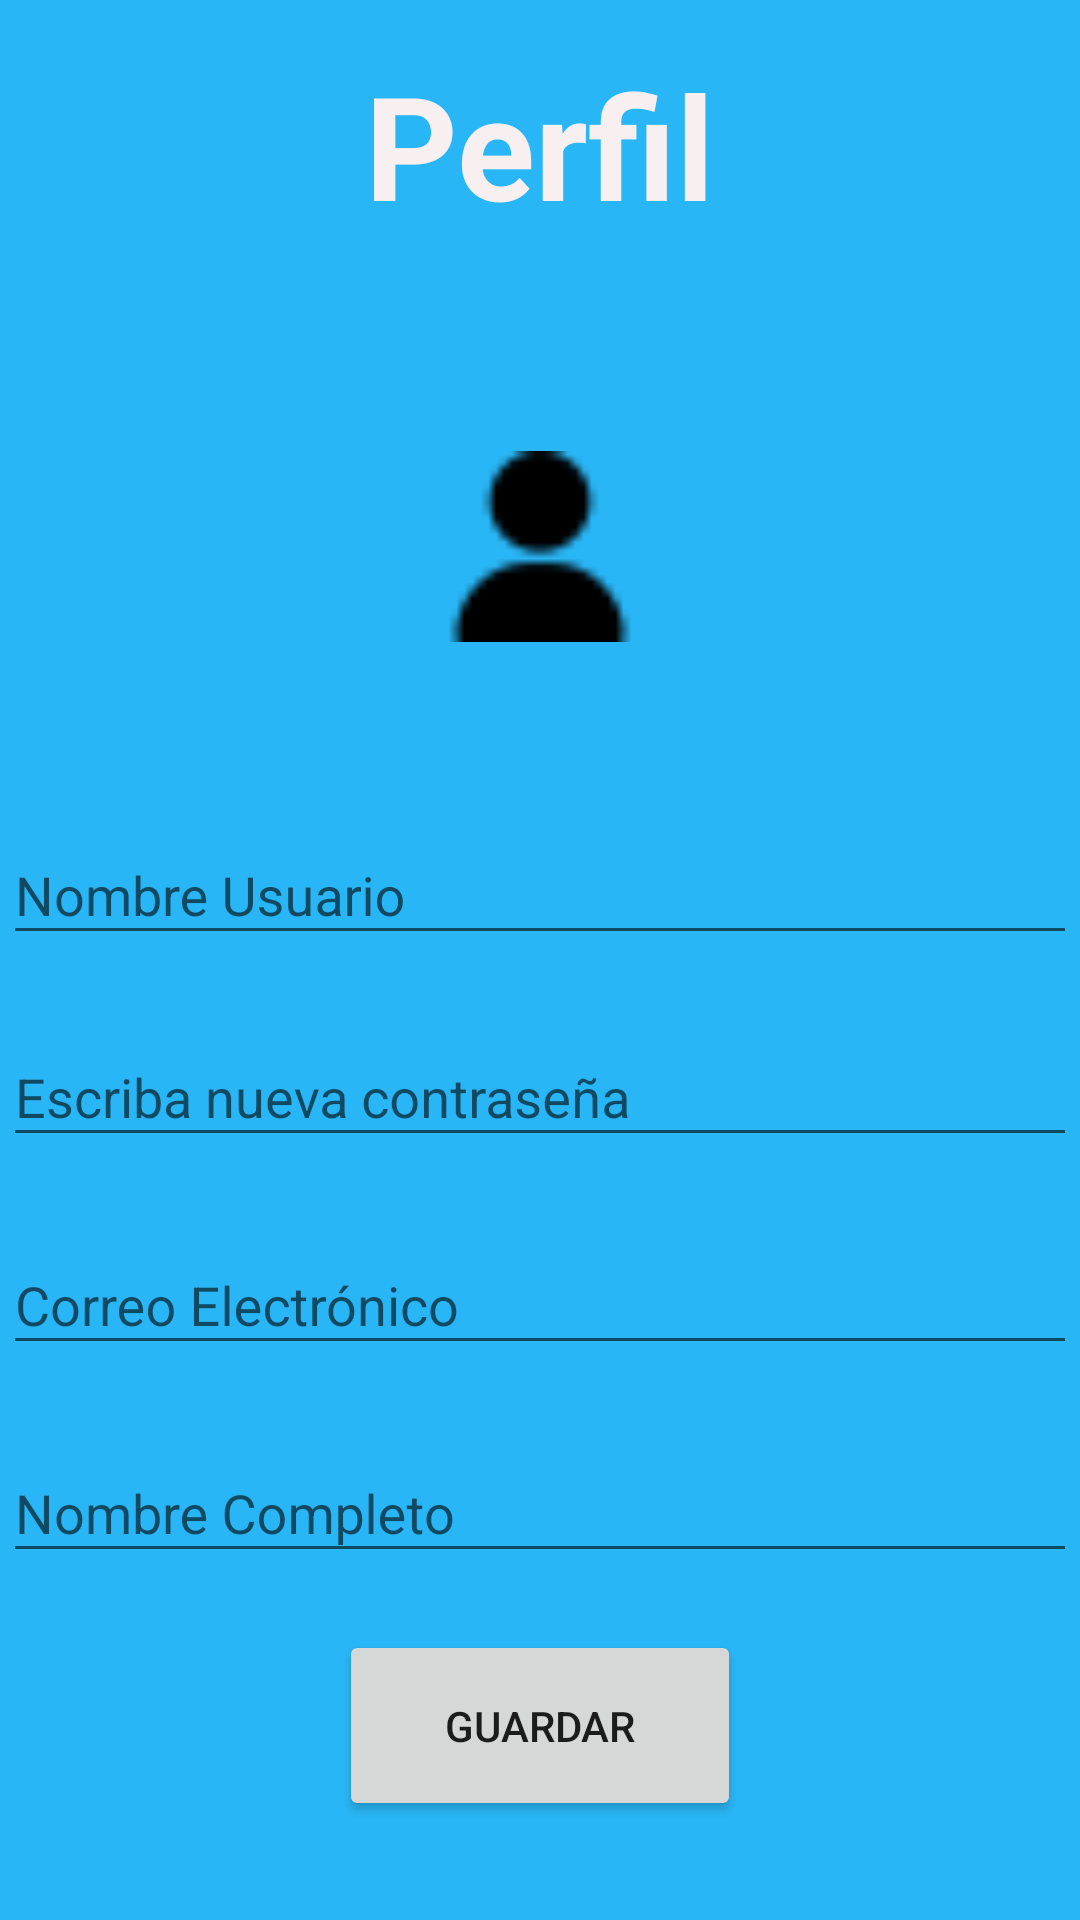

Screen size 1080px×1920px. Icon name, then its center in pixels as point (x, y):
usuario: point (540, 546)
